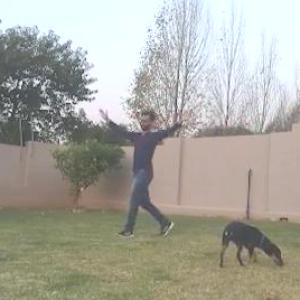takeoff: (84, 103, 204, 234)
